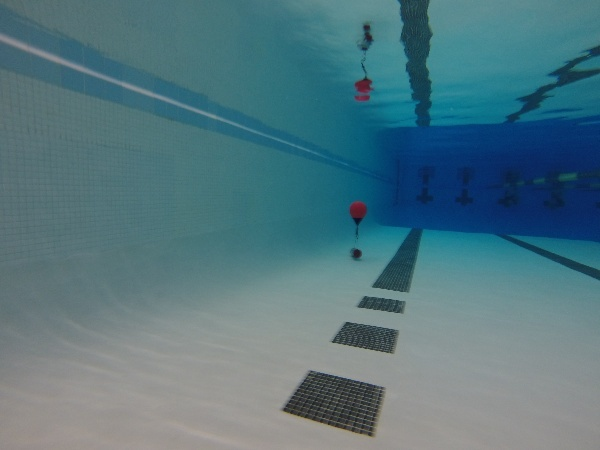buoy_red: (348, 201, 367, 228)
